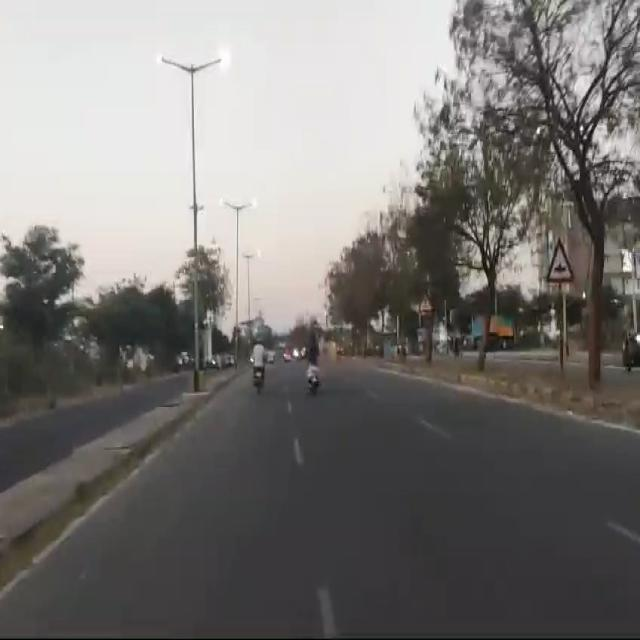bien_cam: (544, 235, 574, 284)
